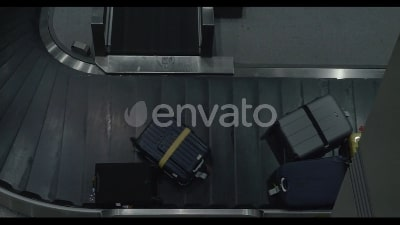baggage: (130, 115, 211, 184), (272, 96, 353, 155), (274, 158, 347, 211), (89, 161, 164, 212)
